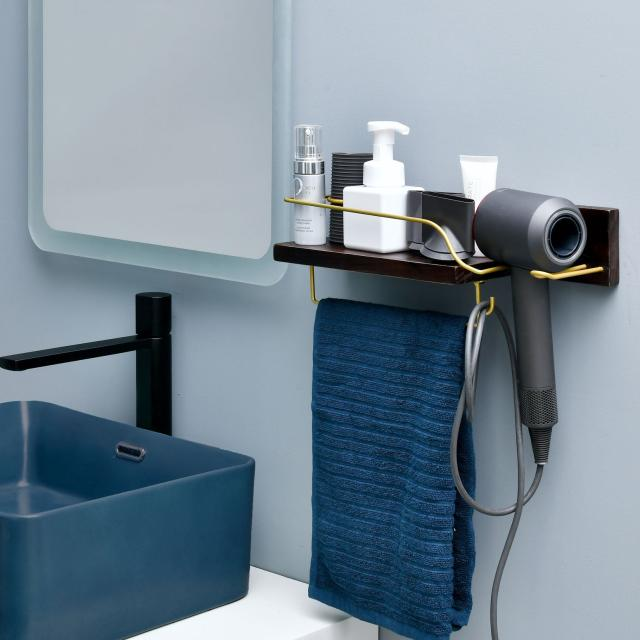dryer: (443, 152, 625, 626), (465, 179, 603, 486)
